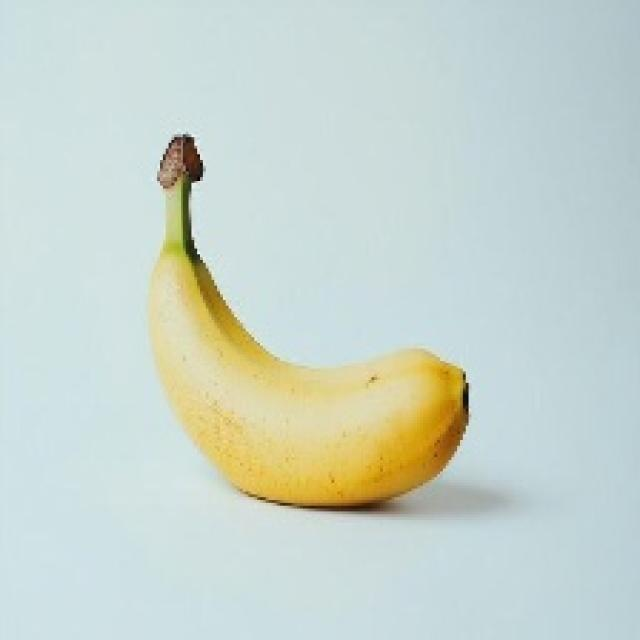Banana: (146, 132, 468, 508)
